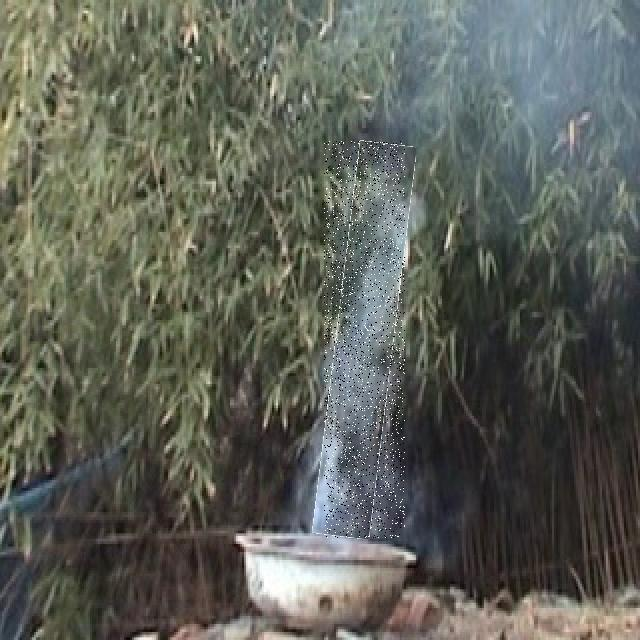smoke: (324, 141, 405, 538)
